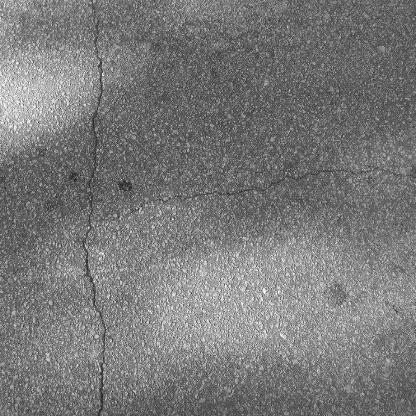Cracks: (103, 164, 416, 229), (80, 0, 112, 416)
